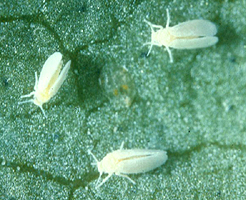Tobacco Whitefly: (91, 138, 186, 184), (25, 48, 78, 121), (143, 12, 218, 61)
